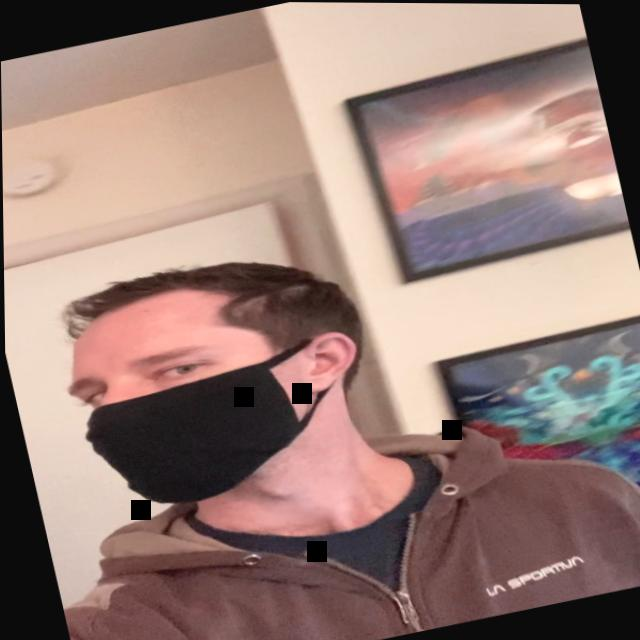Mask: (28, 237, 394, 538)
